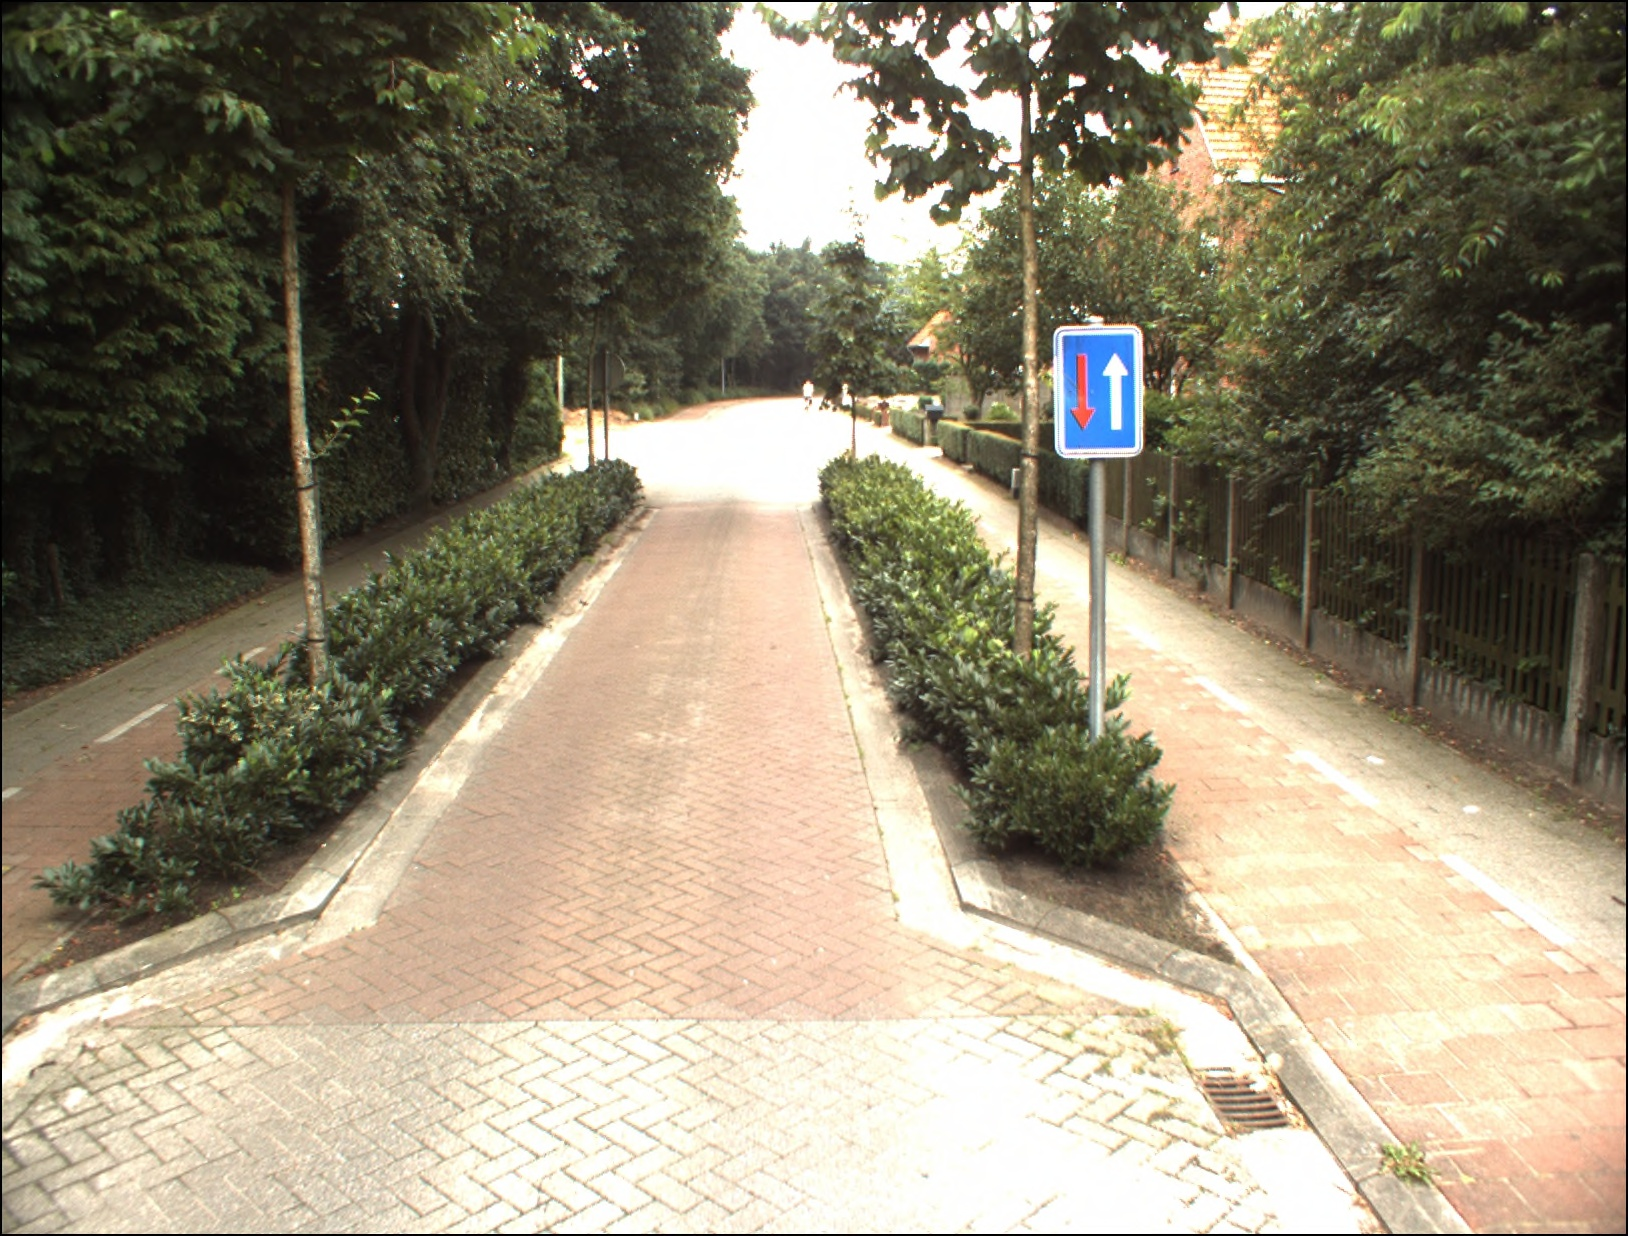roadnarrow1: (1052, 325, 1137, 453)
